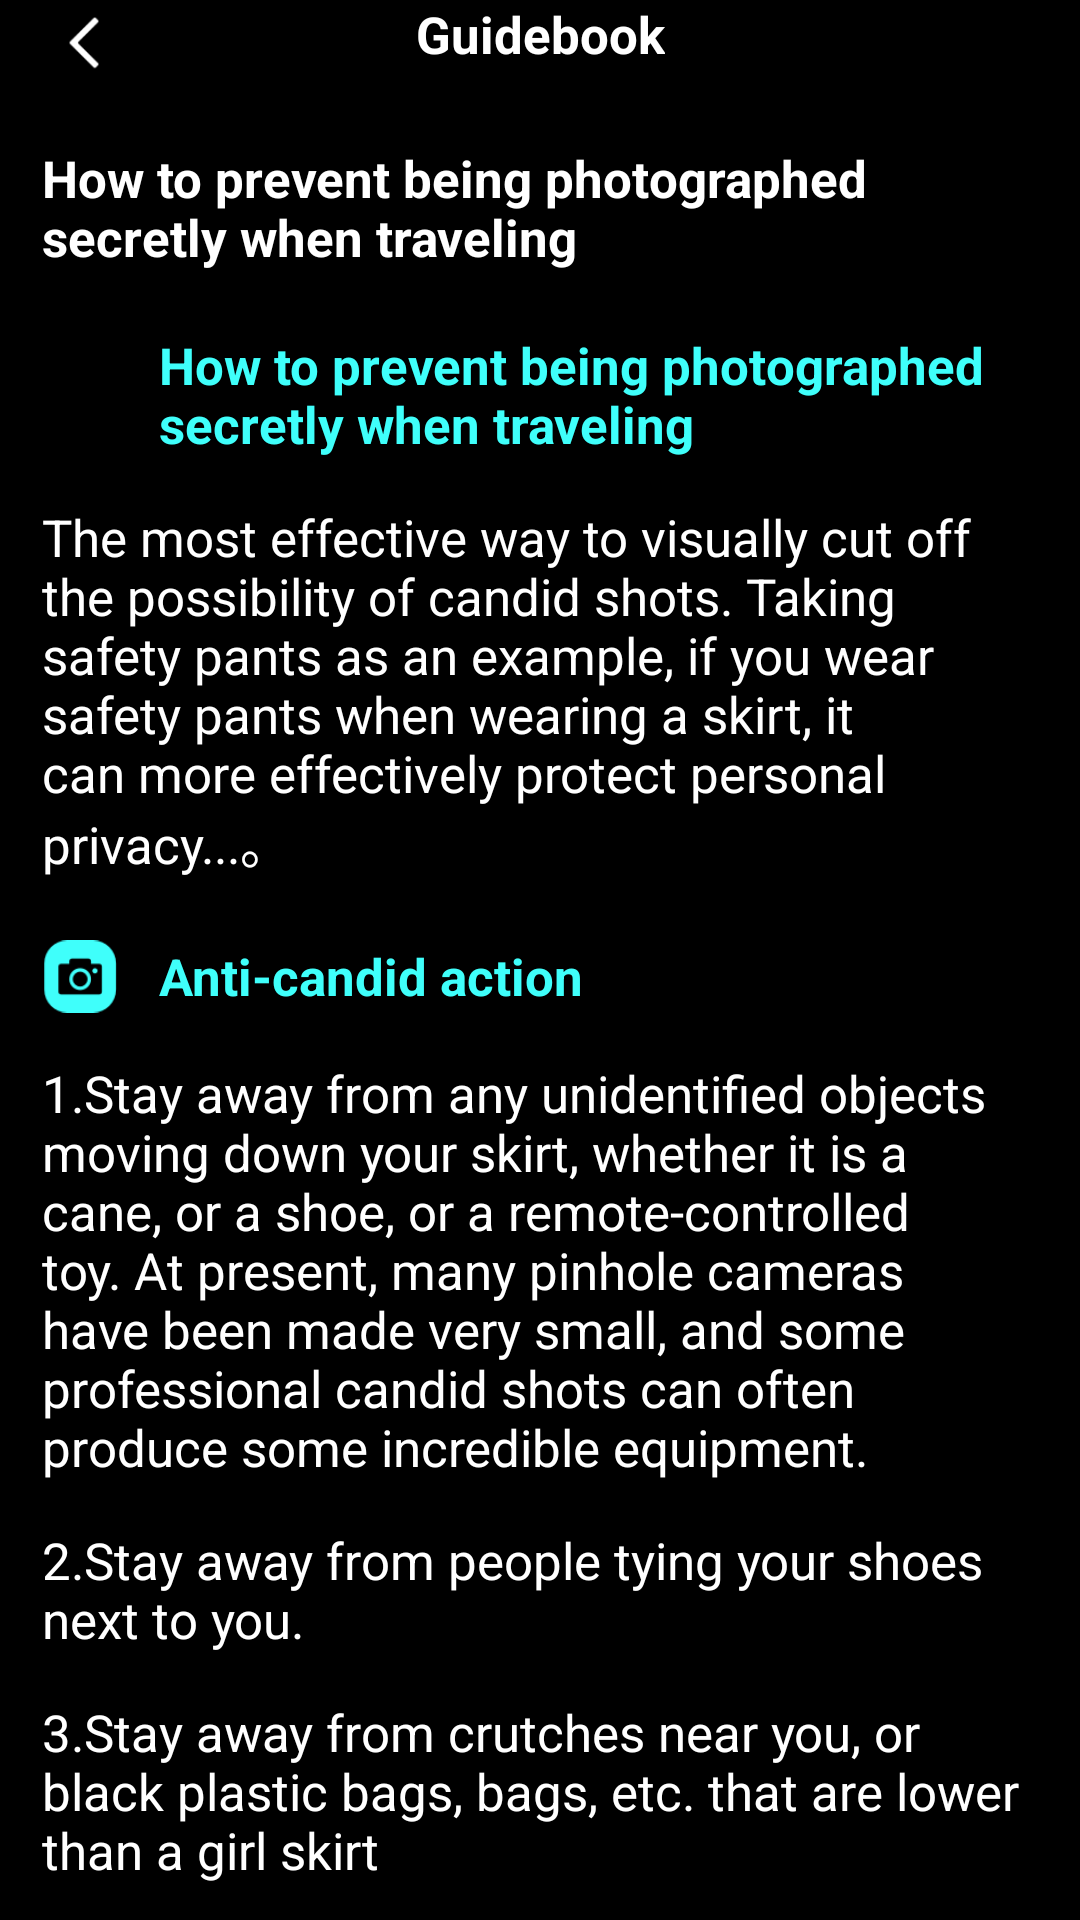

Icon click points for this 1080 × 1920 phone screenshot, format [x,y]:
back: [84,43]
carema: [80,976]
